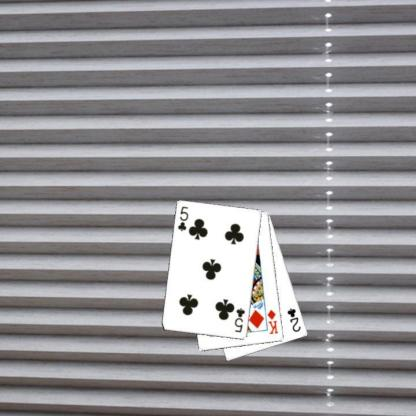2C: (285, 306, 302, 333)
5C: (175, 204, 190, 233), (232, 306, 246, 334)
KD: (265, 306, 279, 336)
